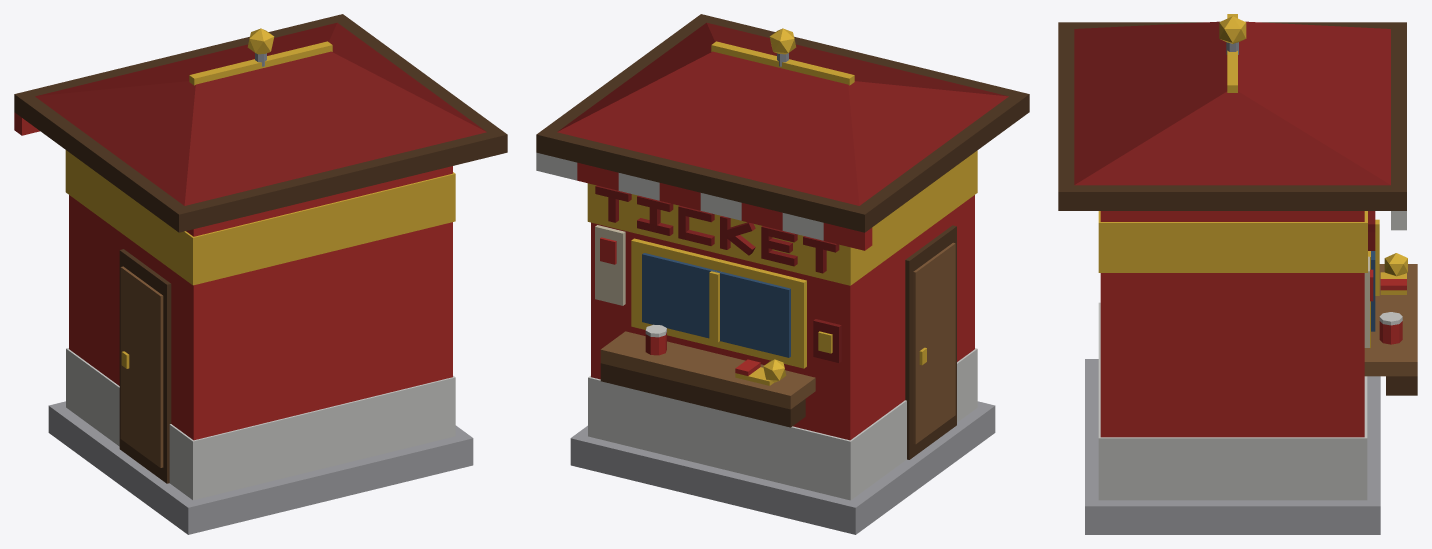
Rendered from Decor_FoodTruck_TicketBooth.fbx.
3 renders of one model, left to right at view 1: azimuth 30°, elevation 25°; view 2: azimuth 150°, elevation 25°; view 3: azimuth 270°, elevation 25°, orthographic. The views are drawn at different scales.
Visible parts, largest first — view 1: TicketBooth_Body; view 2: TicketBooth_Body; view 3: TicketBooth_Body.
Boxes of the visible parts, x1=… form: TicketBooth_Body: x1=14, y1=14, x2=507, y2=534; TicketBooth_Body: x1=536, y1=14, x2=1029, y2=534; TicketBooth_Body: x1=1058, y1=14, x2=1417, y2=534.
Size of the model in its own units: 7.6 by 9.3 by 6.8.
